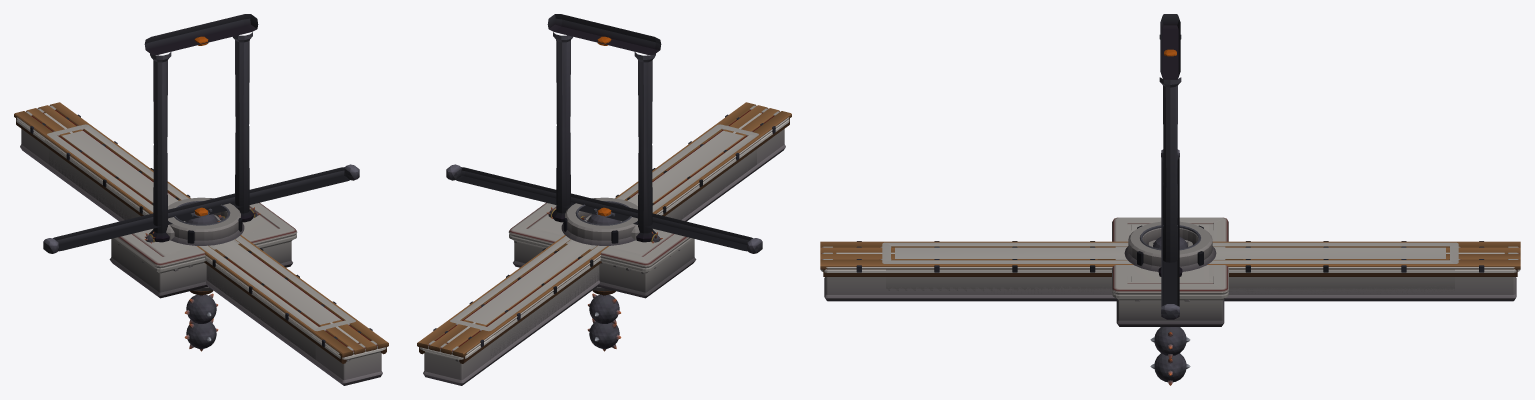
Rendered from fortress-3-BGiYrBAA.glb.
3 views of the same model, side by side, from view 1: azimuth 30°, elevation 25°; view 2: azimuth 150°, elevation 25°; view 3: azimuth 270°, elevation 25° (orthographic). The views are drawn at different scales.
Visible parts, largest first — view 1: block_4x2x40_grate#0, pressFrame_5x6x4x7#0, block_4x2x48_plank#0, block_4x2x48_grate#0, block_12x2x8#0, mount_12.7#0, geyserVent_3.9#0, blade_3x8x1#0, blade_3x10x1_wheel#0, barHub_6x1.2#0; view 2: block_4x2x40_grate#0, pressFrame_5x6x4x7#0, block_4x2x48_plank#0, block_4x2x48_grate#0, block_12x2x8#0, mount_12.7#0, geyserVent_3.9#0, blade_3x8x1#0, blade_3x10x1_wheel#0, barHub_6x1.2#0; view 3: block_4x2x40_grate#0, block_4x2x48_grate#0, block_4x2x48_plank#0, block_12x2x8#0, pressFrame_5x6x4x7#0, geyserVent_3.9#0, mount_12.7#0, blade_3x8x1#0, blade_3x10x1_wheel#0.
Boxes of the visible parts, left/top/right/bottom form: block_4x2x40_grate#0: left=44, top=124, right=355, bottom=359; pressFrame_5x6x4x7#0: left=144, top=14, right=258, bottom=242; block_4x2x48_plank#0: left=14, top=102, right=388, bottom=363; block_4x2x48_grate#0: left=16, top=105, right=386, bottom=385; block_12x2x8#0: left=109, top=202, right=297, bottom=298; mount_12.7#0: left=43, top=164, right=359, bottom=253; geyserVent_3.9#0: left=168, top=197, right=244, bottom=245; blade_3x8x1#0: left=185, top=293, right=217, bottom=324; blade_3x10x1_wheel#0: left=184, top=296, right=218, bottom=351; barHub_6x1.2#0: left=185, top=207, right=217, bottom=224; block_4x2x40_grate#0: left=450, top=124, right=761, bottom=359; pressFrame_5x6x4x7#0: left=547, top=14, right=661, bottom=242; block_4x2x48_plank#0: left=417, top=102, right=791, bottom=363; block_4x2x48_grate#0: left=419, top=105, right=789, bottom=385; block_12x2x8#0: left=508, top=202, right=696, bottom=298; mount_12.7#0: left=446, top=164, right=762, bottom=253; geyserVent_3.9#0: left=561, top=197, right=637, bottom=245; blade_3x8x1#0: left=588, top=293, right=620, bottom=324; blade_3x10x1_wheel#0: left=587, top=296, right=621, bottom=351; barHub_6x1.2#0: left=588, top=207, right=620, bottom=224; block_4x2x40_grate#0: left=880, top=242, right=1460, bottom=293; block_4x2x48_grate#0: left=821, top=246, right=1519, bottom=301; block_4x2x48_plank#0: left=820, top=241, right=1520, bottom=276; block_12x2x8#0: left=1112, top=217, right=1228, bottom=326; pressFrame_5x6x4x7#0: left=1158, top=14, right=1182, bottom=276; geyserVent_3.9#0: left=1124, top=221, right=1216, bottom=271; mount_12.7#0: left=1161, top=149, right=1179, bottom=319; blade_3x8x1#0: left=1150, top=327, right=1190, bottom=359; blade_3x10x1_wheel#0: left=1150, top=353, right=1190, bottom=385.
Bounding box in the file's own units: 26.3 × 26.08 × 48.
